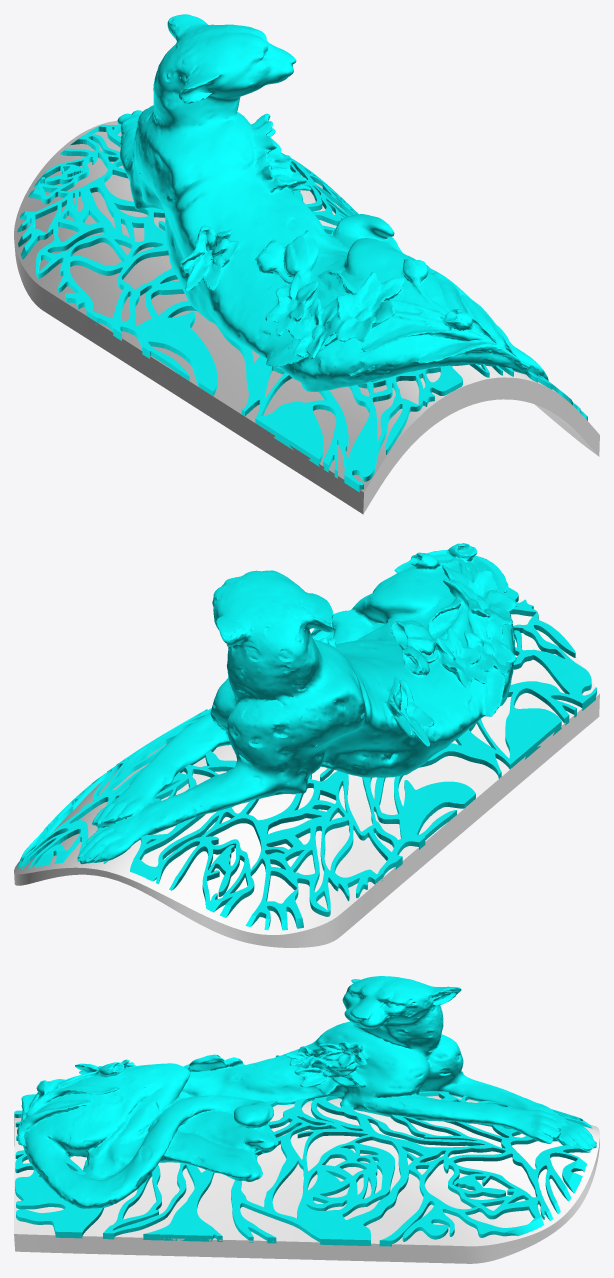
Rendered from leopard-rose-square-web.glb.
The picture shows the model from 3 angles, top to bottom: view 1: azimuth 30°, elevation 25°; view 2: azimuth 150°, elevation 25°; view 3: azimuth 270°, elevation 25°; orthographic projection. The views are drawn at different scales.
Bounding box in the file's own units: 0.0138 × 0.0126 × 0.0301.
